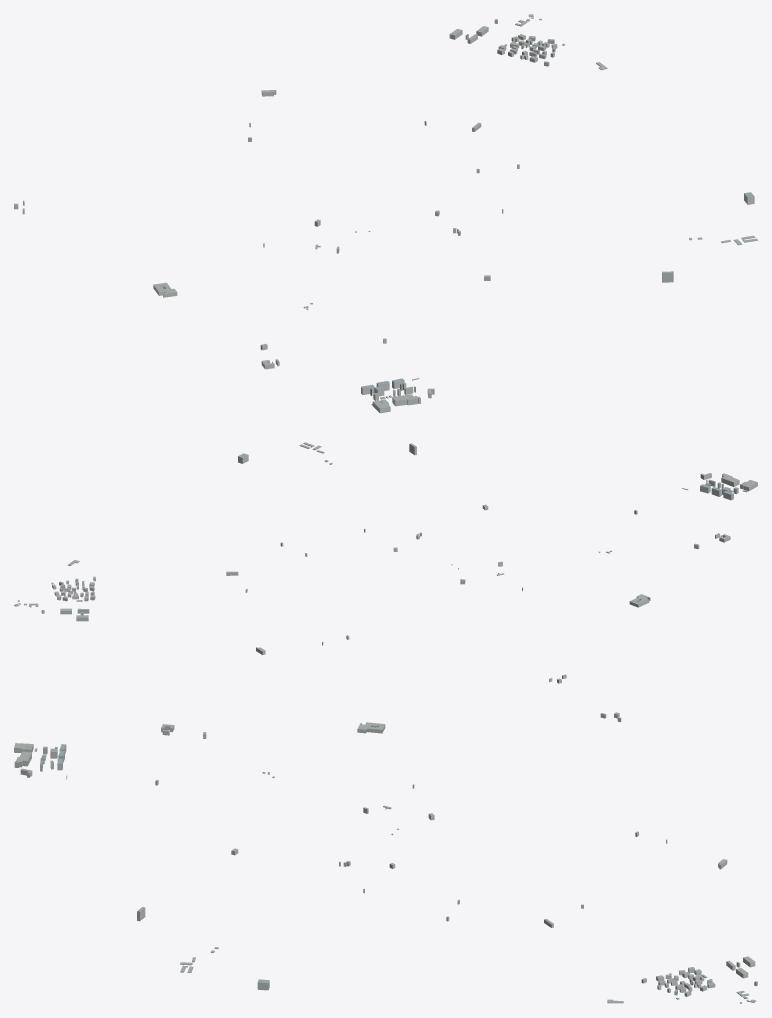
The model's file is far.glb.
3 views of the same model, one above another, from view 1: azimuth 30°, elevation 25°; view 2: azimuth 150°, elevation 25°; view 3: azimuth 270°, elevation 25° (orthographic). The views are drawn at different scales.
Bounding box in the file's own units: 1914 × 29.85 × 2092.
